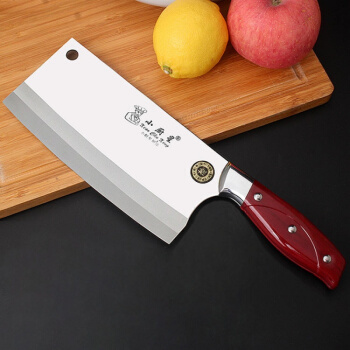knief: (10, 42, 346, 286)
